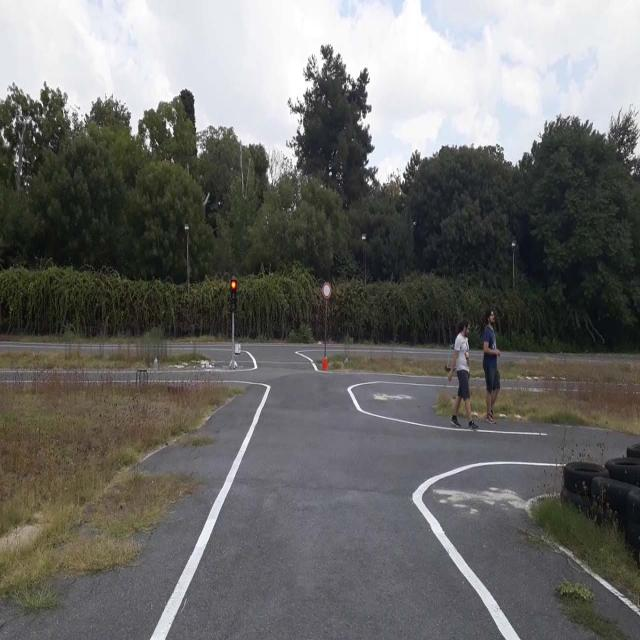kirmizi: (230, 280, 237, 310)
